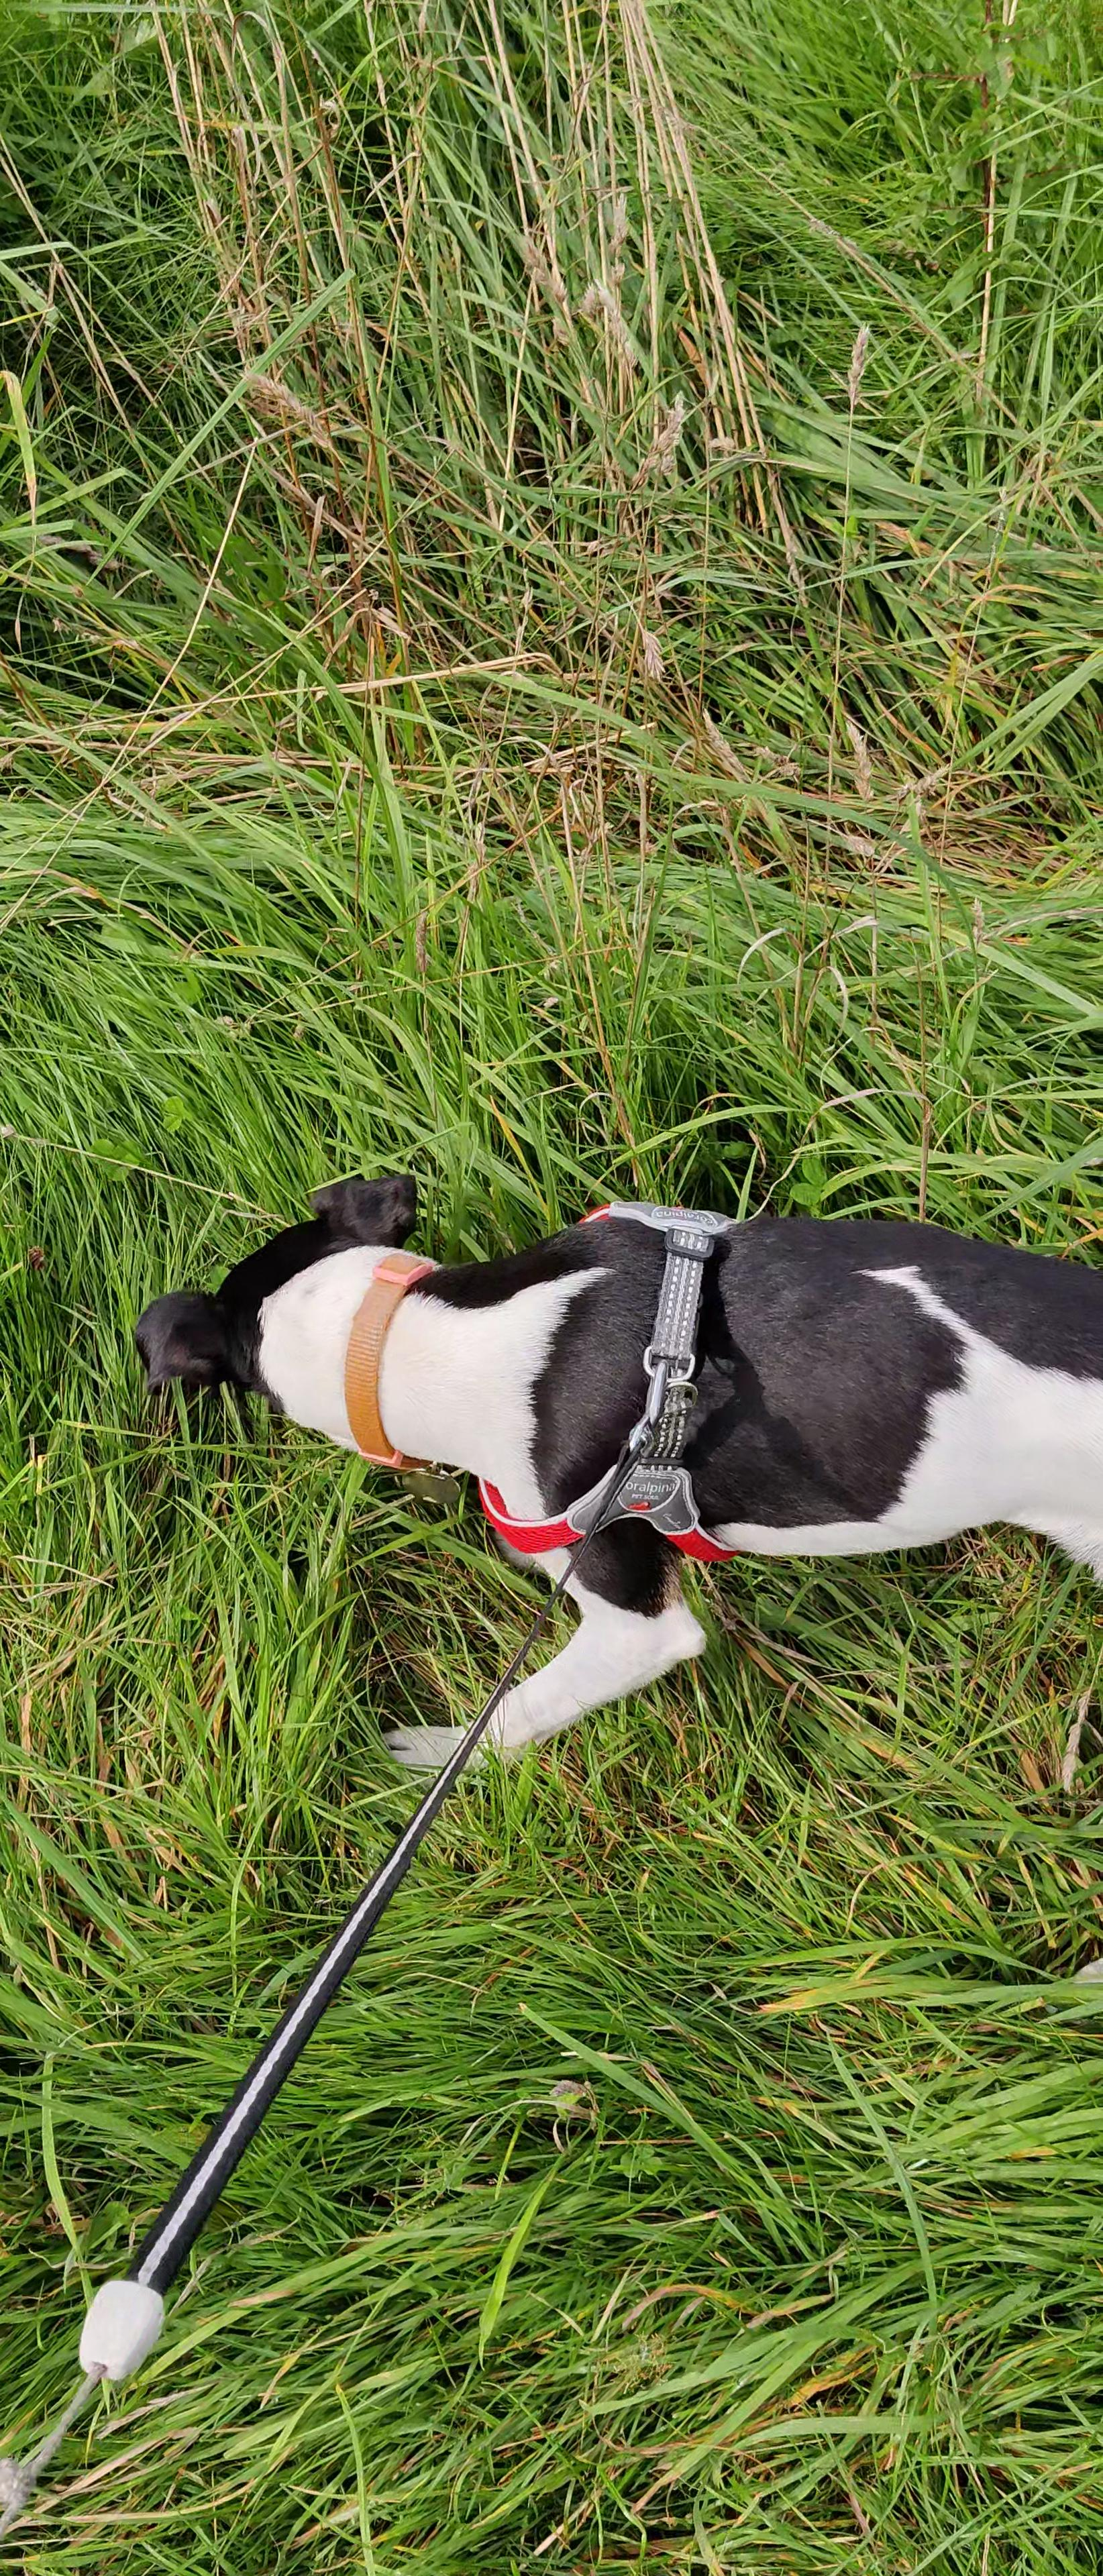Dog: (117, 1132, 1103, 1787)
